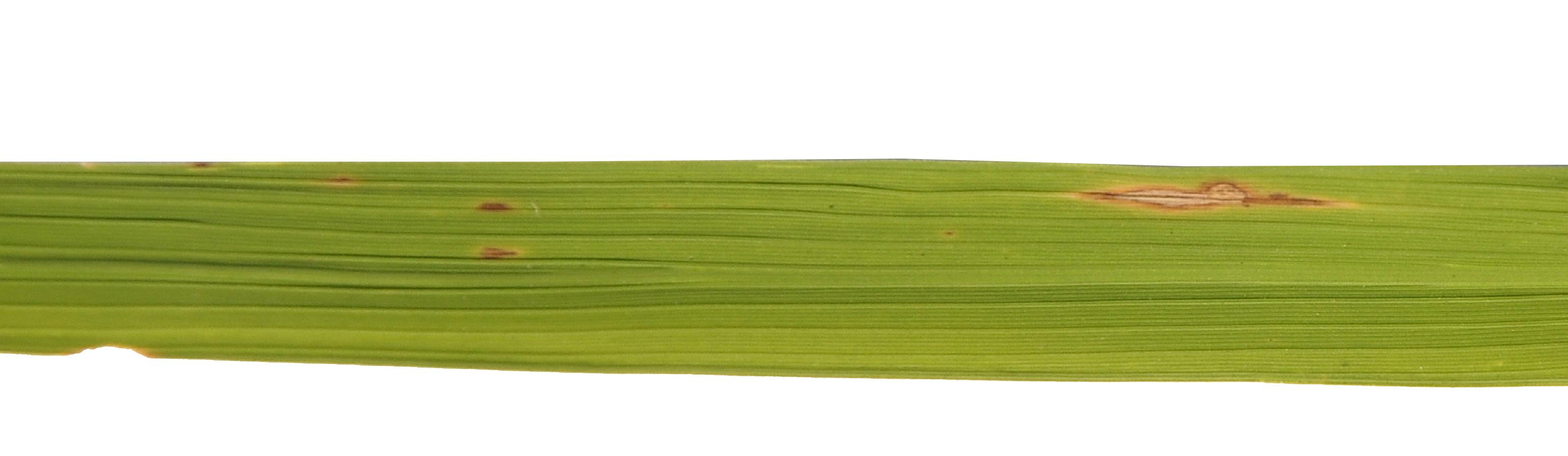Brown spot: (1076, 169, 1384, 222), (467, 188, 526, 220), (470, 237, 539, 264)
